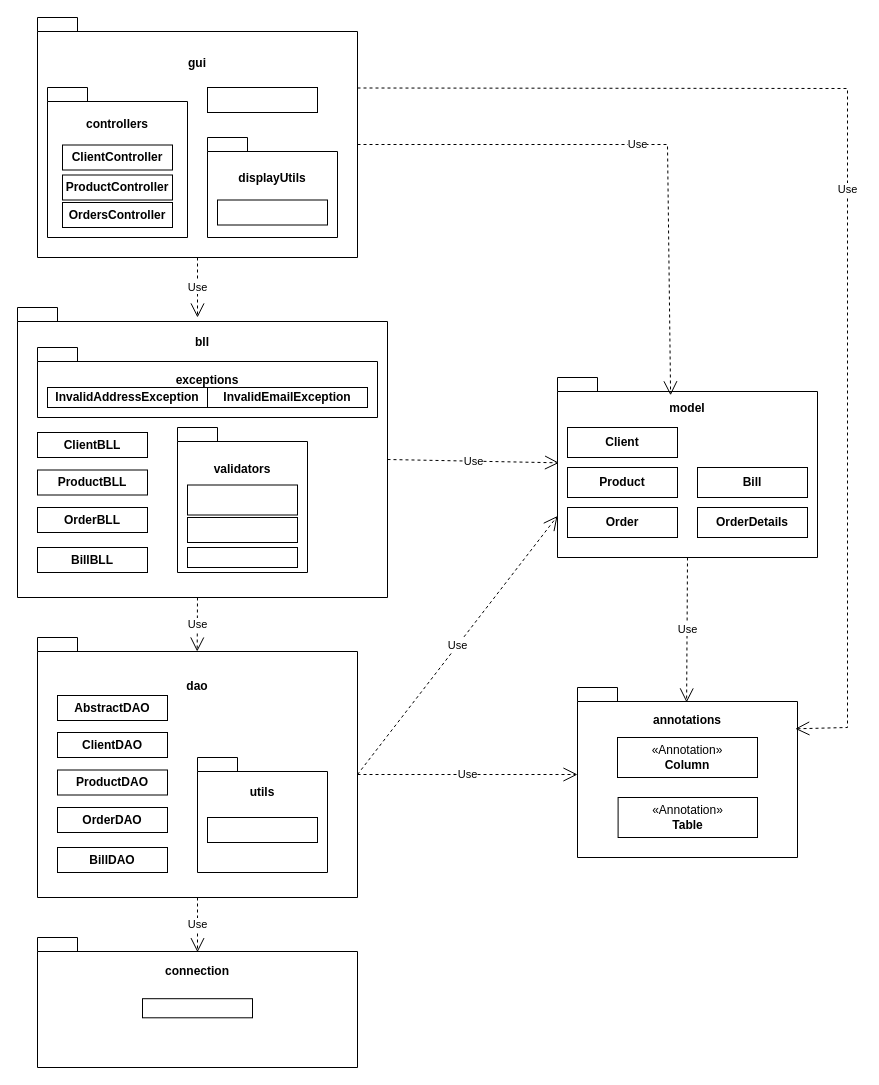
This 879x1085 diagram has some shape labels left out. Each missing label, with the centre of its shape:
AddressValidator: (x=242, y=529)
DAOUtils: (x=262, y=829)
DbConnection: (x=197, y=1008)
EmailValidator: (x=242, y=557)
TableViewBuilder: (x=272, y=212)
View: (x=262, y=99)
«Interface» Validator: (x=242, y=499)
